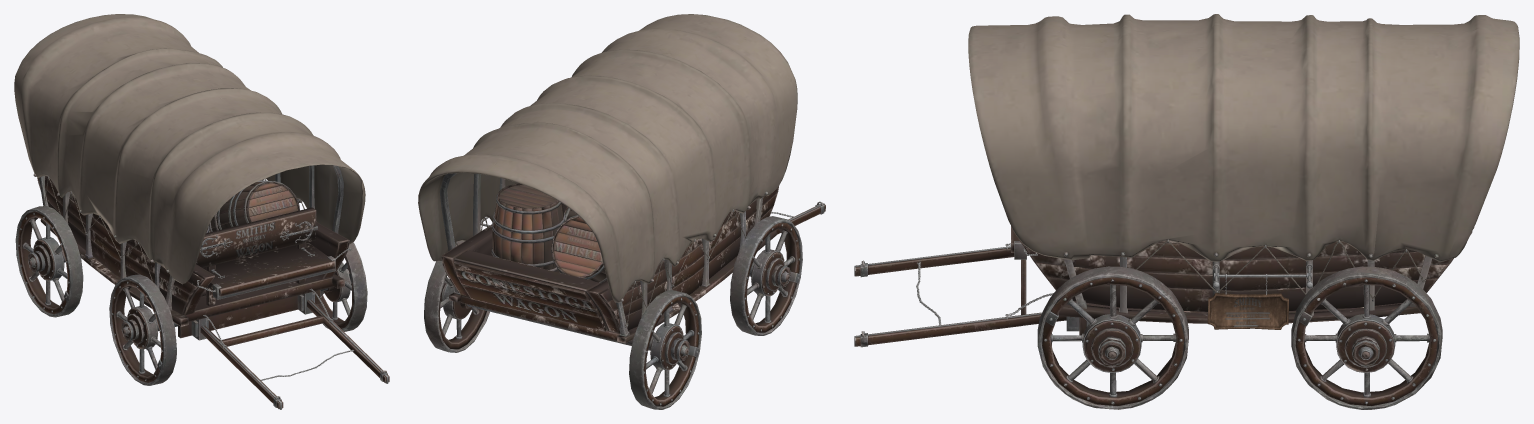
File: conestoga-wagon.glb
3 views of the same model, side by side, from view 1: azimuth 30°, elevation 25°; view 2: azimuth 150°, elevation 25°; view 3: azimuth 270°, elevation 25° (orthographic). The views are drawn at different scales.
Parts seen in each view (by area): view 1: defaultMaterial (×5); view 2: defaultMaterial (×4); view 3: defaultMaterial (×5).
Part boxes in pixels (x1=…): defaultMaterial (×5): x1=14, y1=14, x2=389, y2=409; defaultMaterial (×4): x1=418, y1=14, x2=825, y2=409; defaultMaterial (×5): x1=854, y1=14, x2=1519, y2=409.
Bounding box in the file's own units: 413 × 405 × 761.
6 materials, 6 textured.
